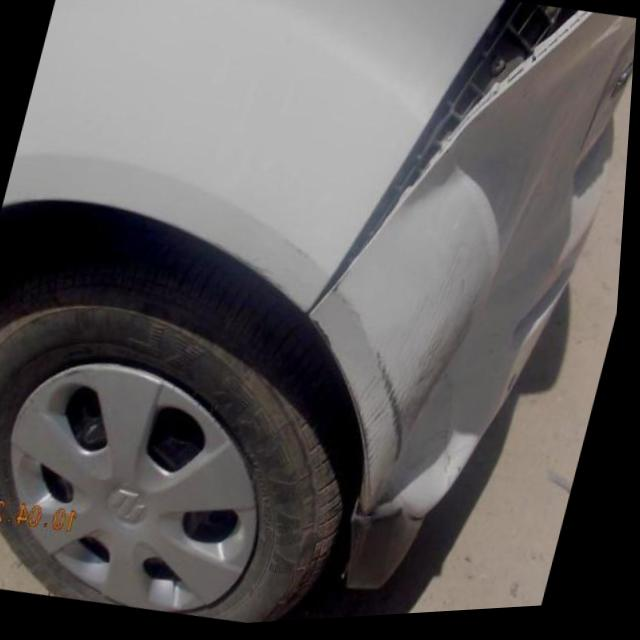Car-Damage: (313, 0, 592, 353), (379, 280, 532, 532), (357, 345, 429, 445)
